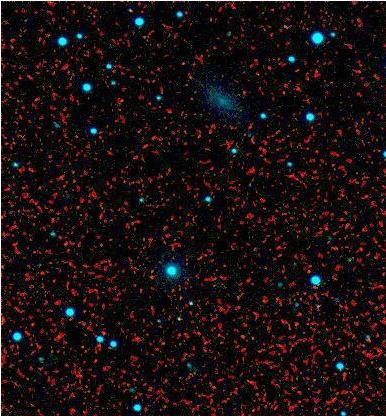star: (268, 78, 298, 108)
